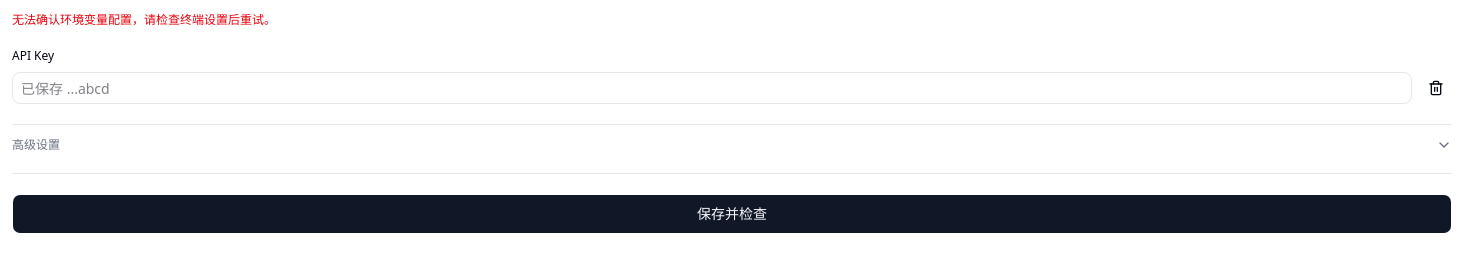
Test: Provider Config Environment Sources › keeps saved credentials editable and verifies them while displaying the lookup warning
Expected: the message reads "无法确认环境变量配置，请检查终端设置后重试。", x1=12 y1=12 x2=276 y2=28
In the password field labelled "API Key": (712, 88) x1=12 y1=72 x2=1412 y2=104, type "new-secret"
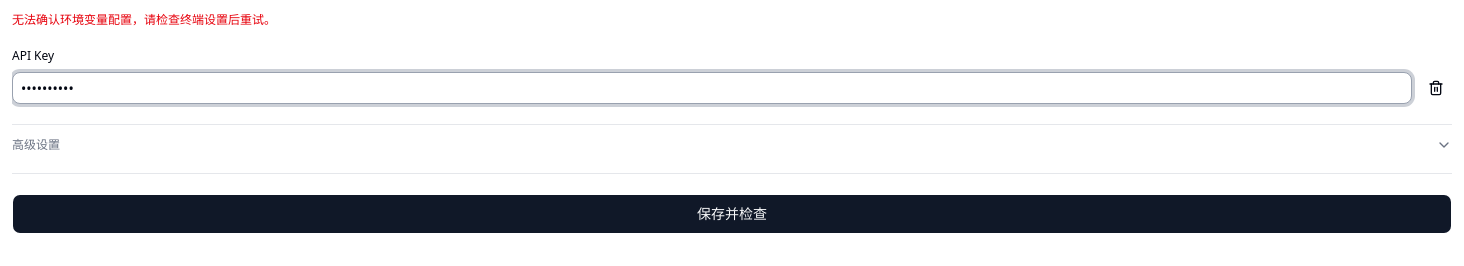
Click the button "保存并检查": (732, 214) x1=12 y1=194 x2=1452 y2=234
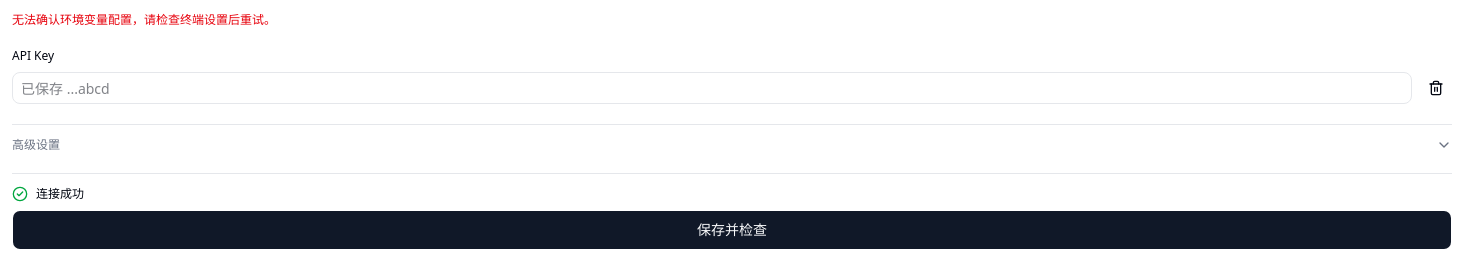
Expected: the message "无法确认环境变量配置，请检查终端设置后重试。" is shown, x1=12 y1=12 x2=276 y2=28
Result: the text "连接成功" is shown at x1=12 y1=185 x2=84 y2=202
